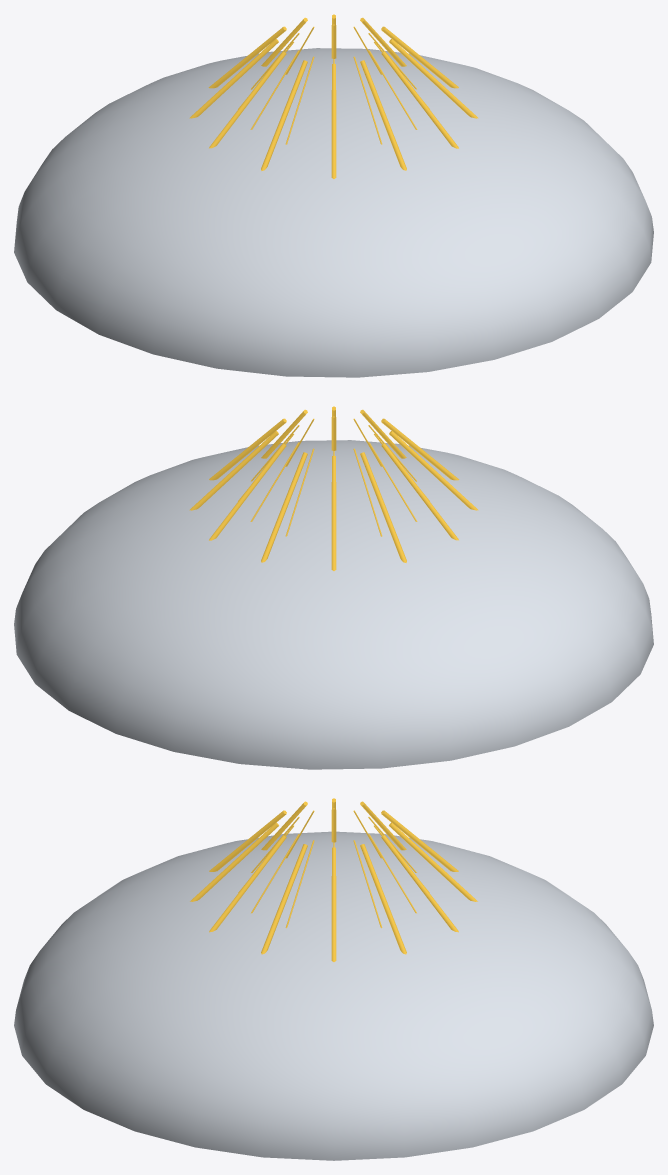
3 renders of one model, top to bottom at view 1: azimuth 30°, elevation 25°; view 2: azimuth 150°, elevation 25°; view 3: azimuth 270°, elevation 25°, orthographic.
Parts seen in each view (by area): view 1: o2; view 2: o2; view 3: o2.
Boxes of the visible parts, left/top/right/bottom form: o2: left=14, top=14, right=653, bottom=377; o2: left=14, top=406, right=653, bottom=769; o2: left=14, top=798, right=653, bottom=1160.
Bounding box in the file's own units: 3.32 × 1.16 × 3.32.
